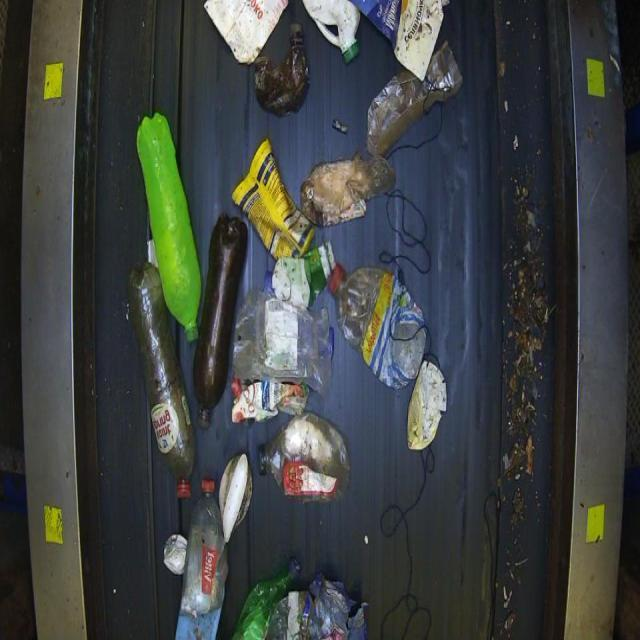bottles: (105, 88, 252, 632)
